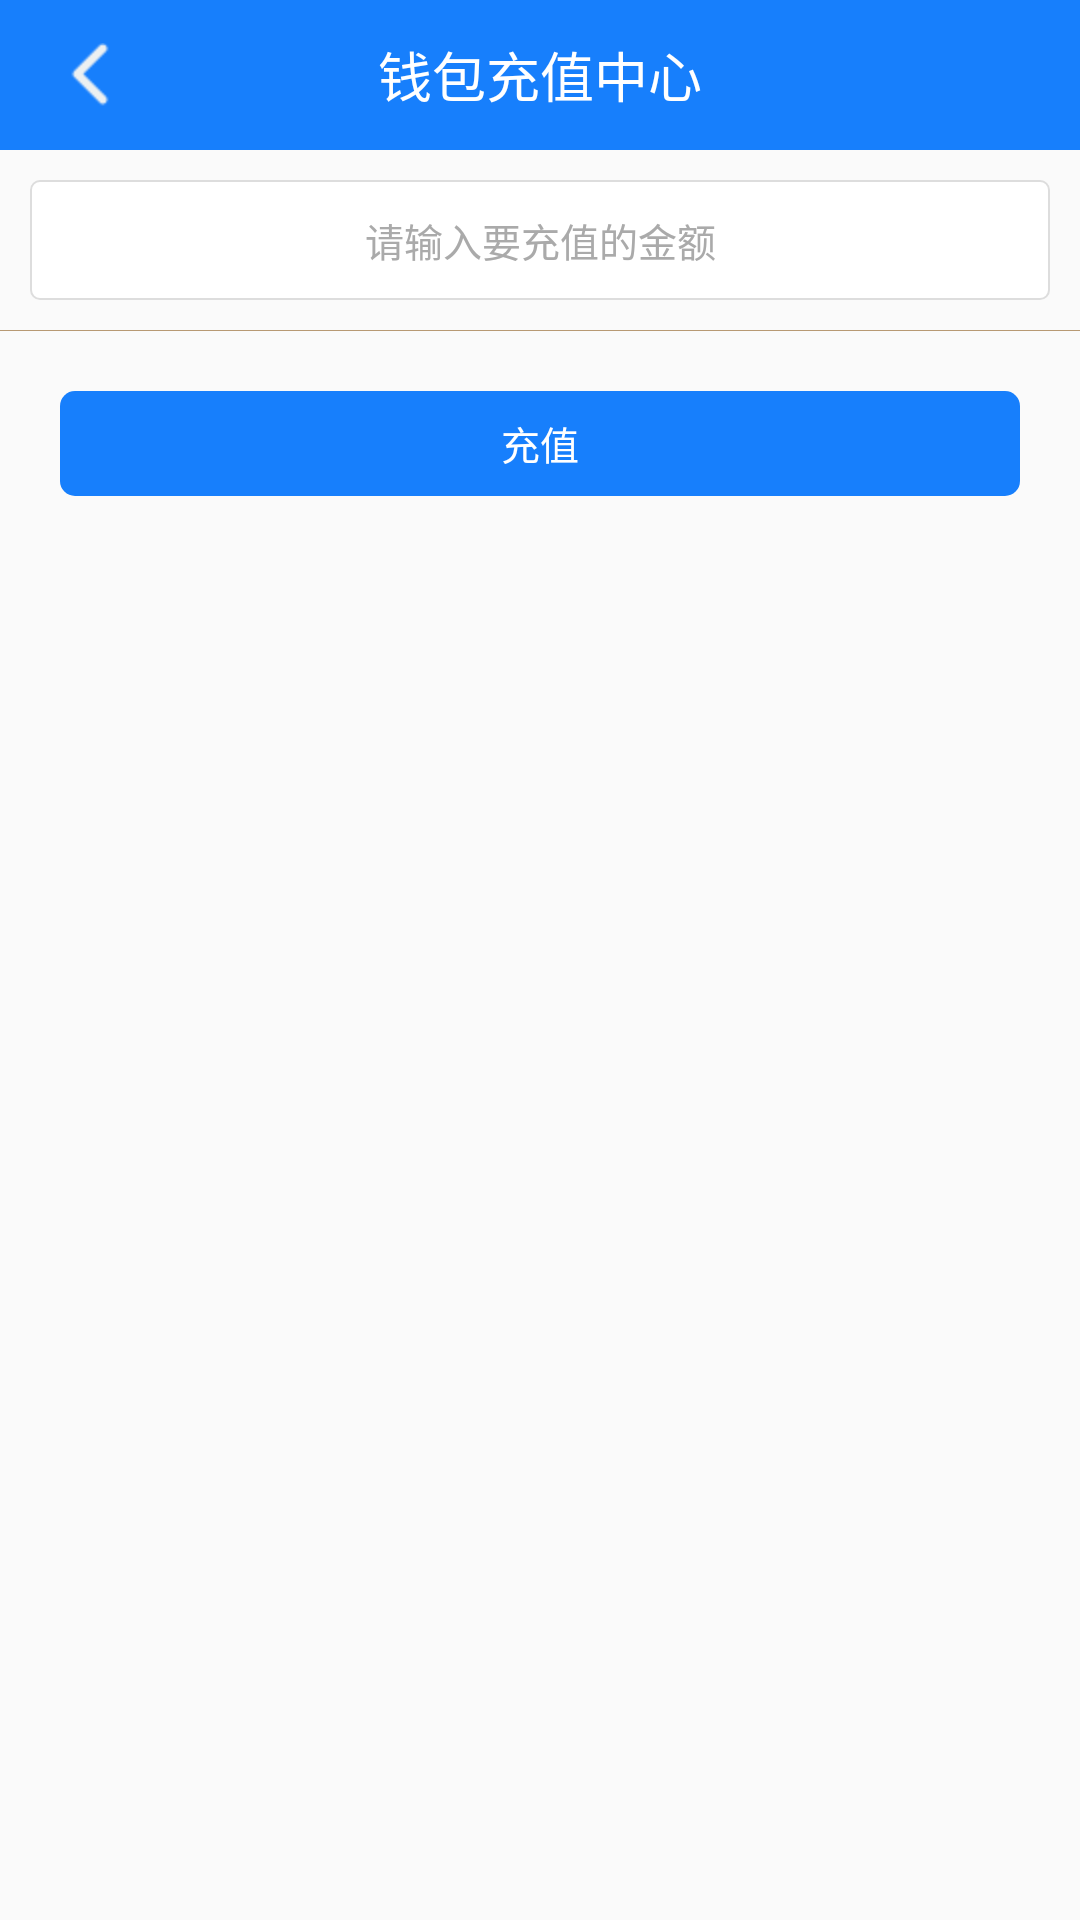

Icon bounding boxes for this 1080px x 1920px phone screenshot, format (x1, y1, x2, y2):
back: (72, 43, 109, 105)
